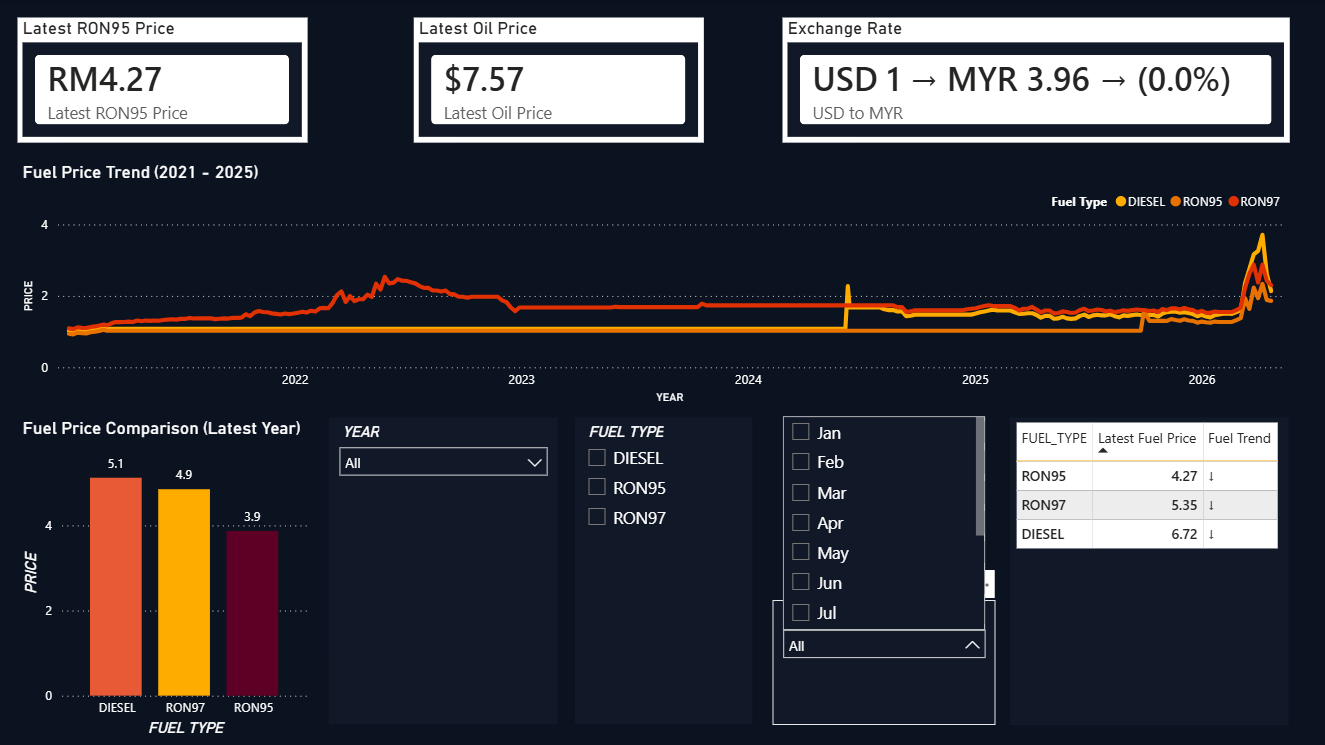

This screenshot's page, from the dashboard's own definition file:
{"tool":"powerbi","page":{"name":"Page 1","canvas":[1280,720],"ordinal":0},"visuals":[{"type":"cardVisual","title":"Latest RON95 Price","fields":{"Data":["FACT_FUEL_PRICE.Latest RON95 Price"]},"box":[16.9,16.9,279.9,120.6],"z":0},{"type":"cardVisual","title":"Latest Oil Price","fields":{"Data":["FACT_OIL_PRICE.Avg Oil Price"]},"box":[399.3,16.9,279.9,120.6],"z":1000},{"type":"cardVisual","title":"Exchange Rate","fields":{"Data":["DIM_CURRENCY.USD to MYR"]},"box":[755.2,16.9,489.8,120.6],"z":2000},{"type":"lineChart","title":"Fuel Price Trend (2021 - 2025)","fields":{"Category":["DIM_DATE.DATE_KEY"],"Y":["Avg(FACT_FUEL_PRICE.PRICE)"],"Series":["DIM_FUEL_TYPE.FUEL_TYPE"]},"box":[16.9,155.6,1228.2,238.9],"z":3000},{"type":"clusteredColumnChart","title":"Fuel Price Comparison (Latest Year)","fields":{"Category":["DIM_FUEL_TYPE.FUEL_TYPE"],"Y":["FACT_FUEL_PRICE.Latest Price (Bar)"]},"box":[16.9,403,285.9,312.5],"z":4000},{"type":"slicer","fields":{"Values":["DIM_DATE.YEAR"]},"box":[317.7,403.4,221.2,295.9],"z":5000},{"type":"slicer","fields":{"Values":["DIM_FUEL_TYPE.FUEL_TYPE"]},"box":[554.5,403.4,171.3,295.9],"z":6000},{"type":"slicer","fields":{"Values":["DIM_DATE.MONTH_NAME"]},"box":[744.5,403.4,216.5,295.9],"z":7000},{"type":"tableEx","fields":{"Values":["DIM_FUEL_TYPE.FUEL_TYPE","FACT_FUEL_PRICE.Latest Fuel Price","FACT_FUEL_PRICE.Fuel Trend"]},"box":[974.8,403,269,296.8],"z":8000}]}

Visuals, with their boxes in screenshot pixels (x1, y1, x2, y2), scaled from the page's 1280x720 canvas onto the 1325x745 screenshot:
"Latest RON95 Price" cardVisual: rect(17, 17, 307, 142)
"Latest Oil Price" cardVisual: rect(413, 17, 703, 142)
"Exchange Rate" cardVisual: rect(782, 17, 1289, 142)
"Fuel Price Trend (2021 - 2025)" lineChart: rect(17, 161, 1289, 408)
"Fuel Price Comparison (Latest Year)" clusteredColumnChart: rect(17, 417, 313, 740)
slicer - DIM_DATE.YEAR: rect(329, 417, 558, 724)
slicer - DIM_FUEL_TYPE.FUEL_TYPE: rect(574, 417, 751, 724)
slicer - DIM_DATE.MONTH_NAME: rect(771, 417, 995, 724)
tableEx - DIM_FUEL_TYPE.FUEL_TYPE x FACT_FUEL_PRICE.Latest Fuel Price: rect(1009, 417, 1288, 724)
